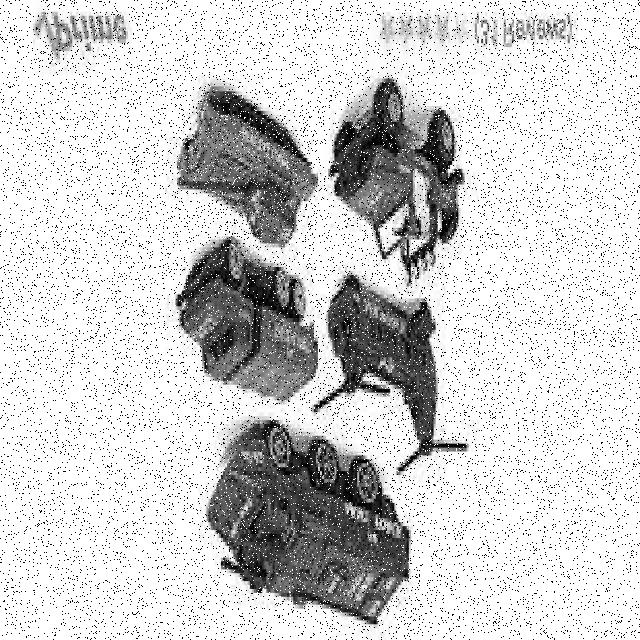MIL_MBT: (177, 89, 317, 238)
